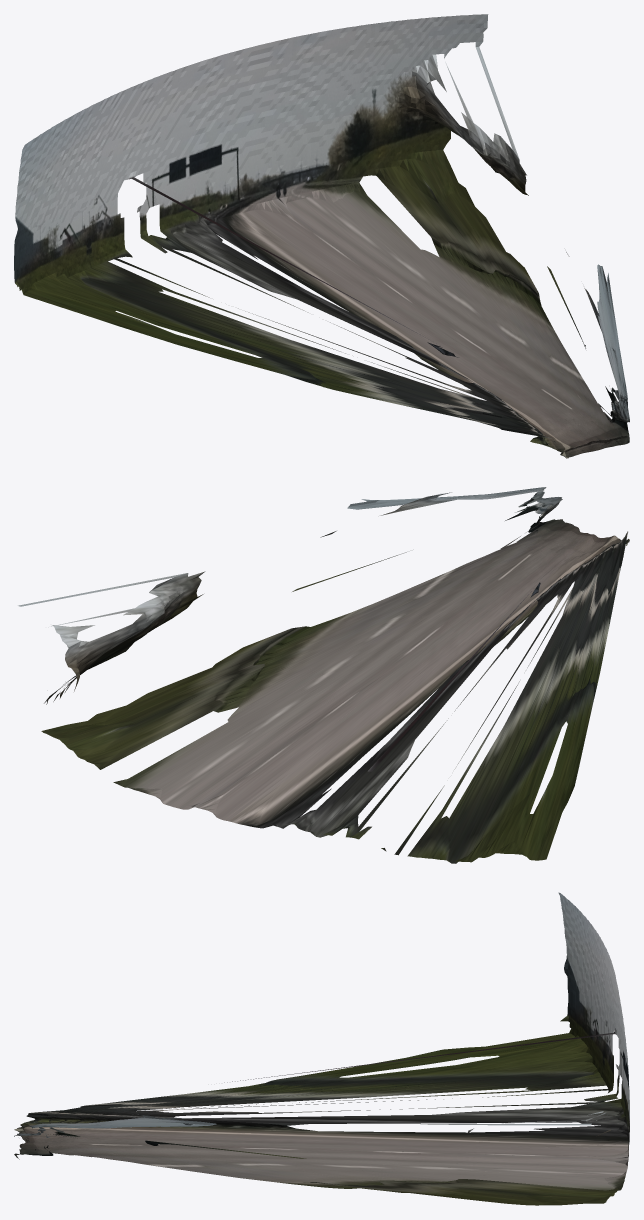
The picture shows the model from 3 angles, top to bottom: view 1: azimuth 30°, elevation 25°; view 2: azimuth 150°, elevation 25°; view 3: azimuth 270°, elevation 25°; orthographic projection. The views are drawn at different scales.
Parts seen in each view (by area): view 1: defaultobject; view 2: defaultobject; view 3: defaultobject.
Part boxes in pixels (x1,y1,x2,y2): defaultobject: (14, 14, 629, 458); defaultobject: (18, 487, 629, 863); defaultobject: (14, 892, 629, 1205).
Size of the model in its own units: 36.17 by 12.67 by 44.57.
Materials: 1 (1 with a texture image).
